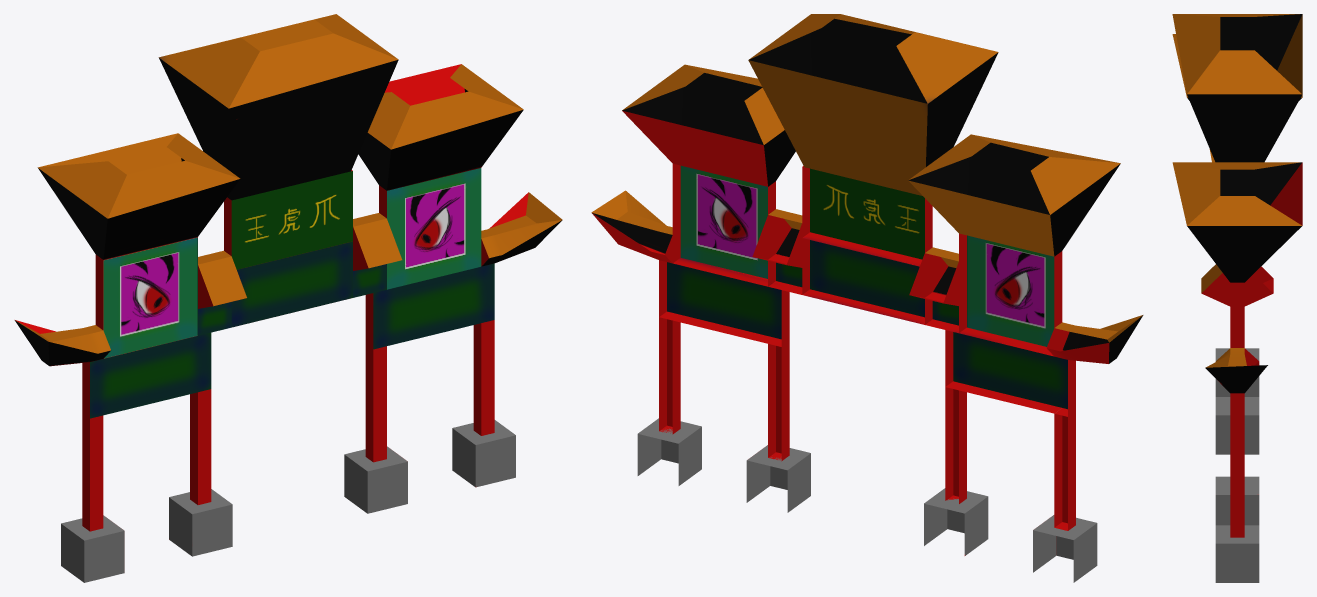
File: finalgate.fbx
3 renders of one model, left to right at view 1: azimuth 30°, elevation 25°; view 2: azimuth 150°, elevation 25°; view 3: azimuth 270°, elevation 25°, orthographic. The views are drawn at different scales.
Parts seen in each view (by area): view 1: pCube24; view 2: pCube24; view 3: pCube24.
Boxes of the visible parts, box(x1,y1,x2,y2) form: pCube24: box(14, 14, 562, 582); pCube24: box(591, 14, 1143, 582); pCube24: box(1172, 14, 1302, 582).
Size of the model in its own units: 38.07 by 34.45 by 9.
